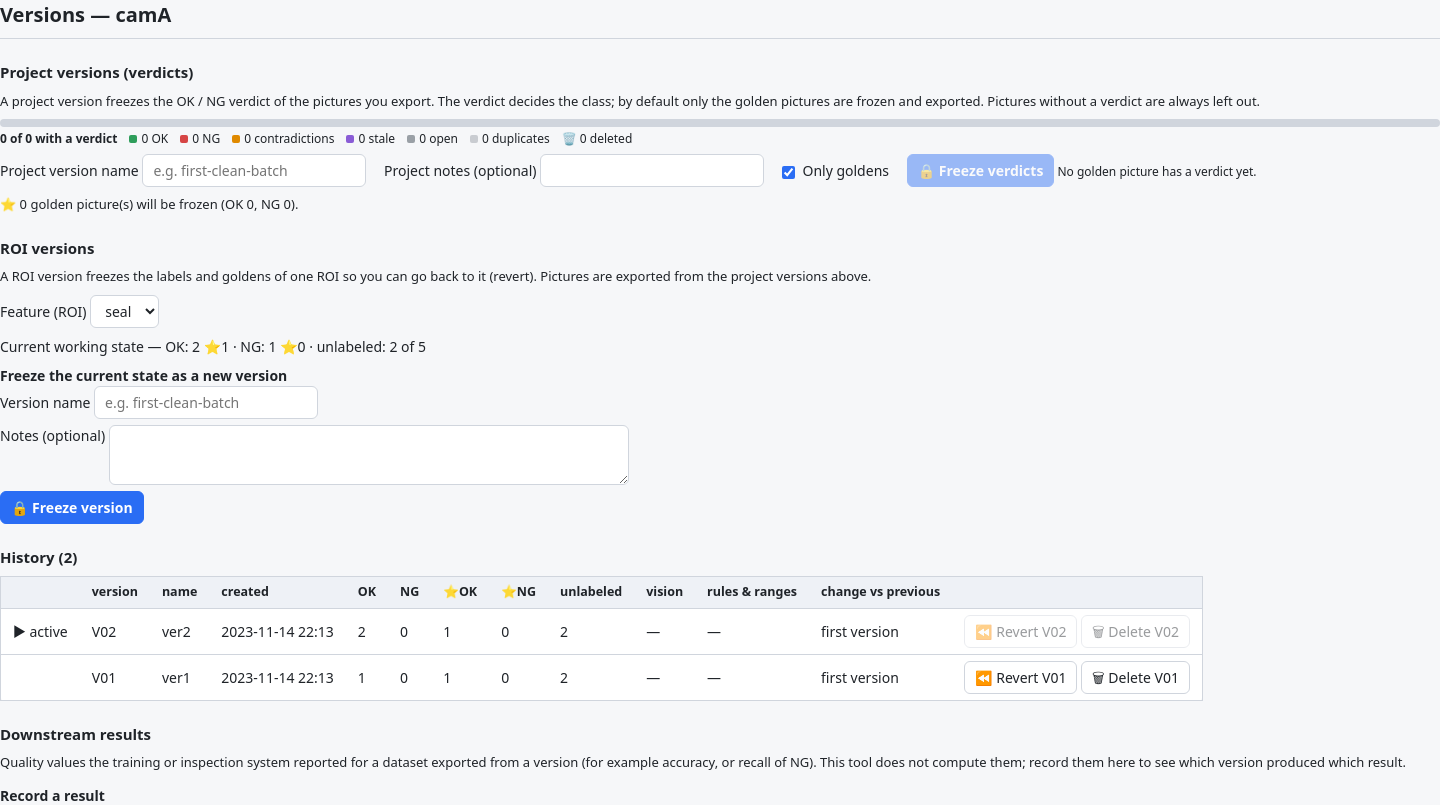
revert needs confirmation and can be cancelled
Expected: the heading "History (2)" is shown, 0,546 -> 77,566
Click the button "⏪ Revert V01": (1021, 677) 964,661 -> 1077,694
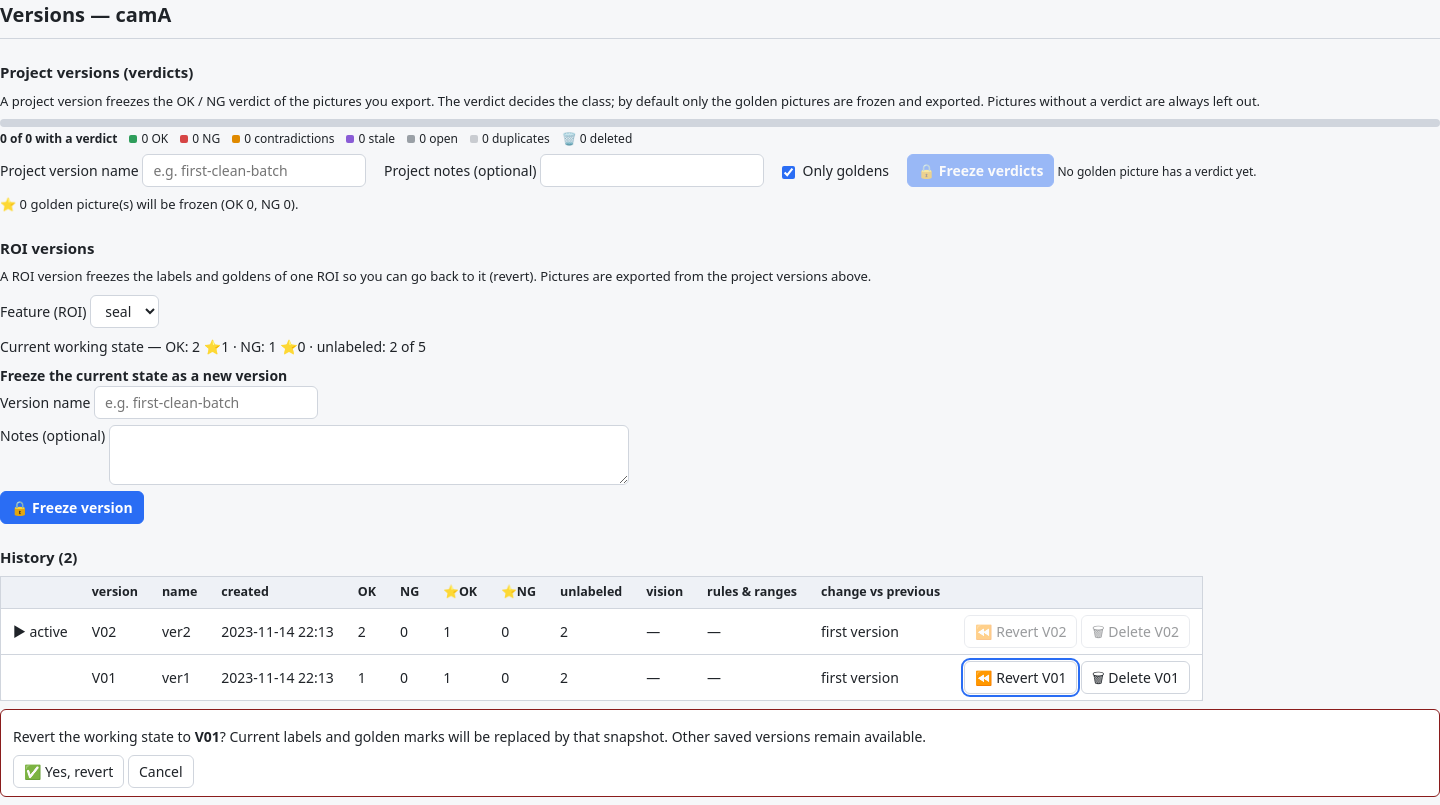
Expected: the dialog is shown, 0,709 -> 1439,797
Click the button "Cancel": (161, 771) 128,755 -> 194,788
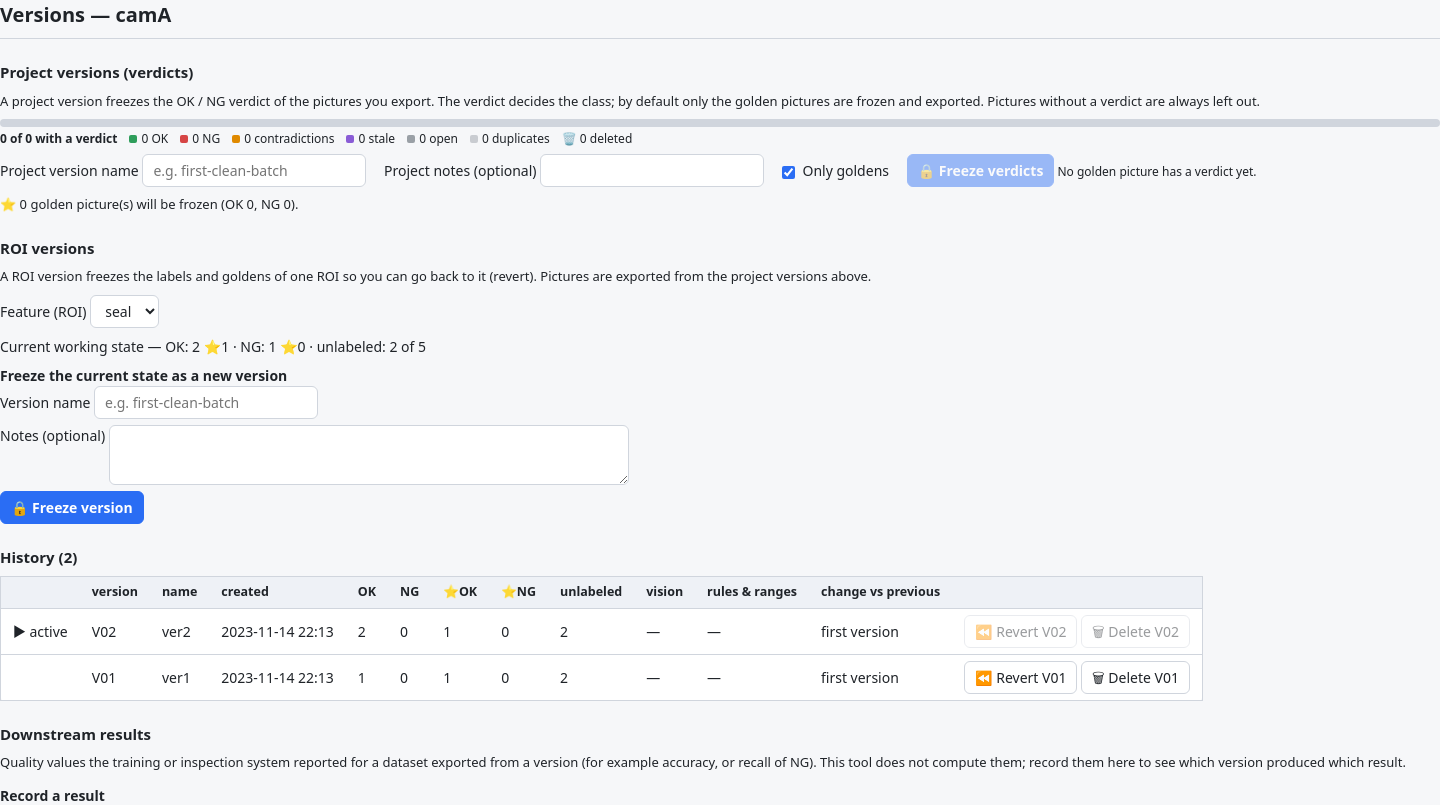
Expected: the dialog is gone
Click the button "⏪ Revert V01": (1021, 677) 964,661 -> 1077,694
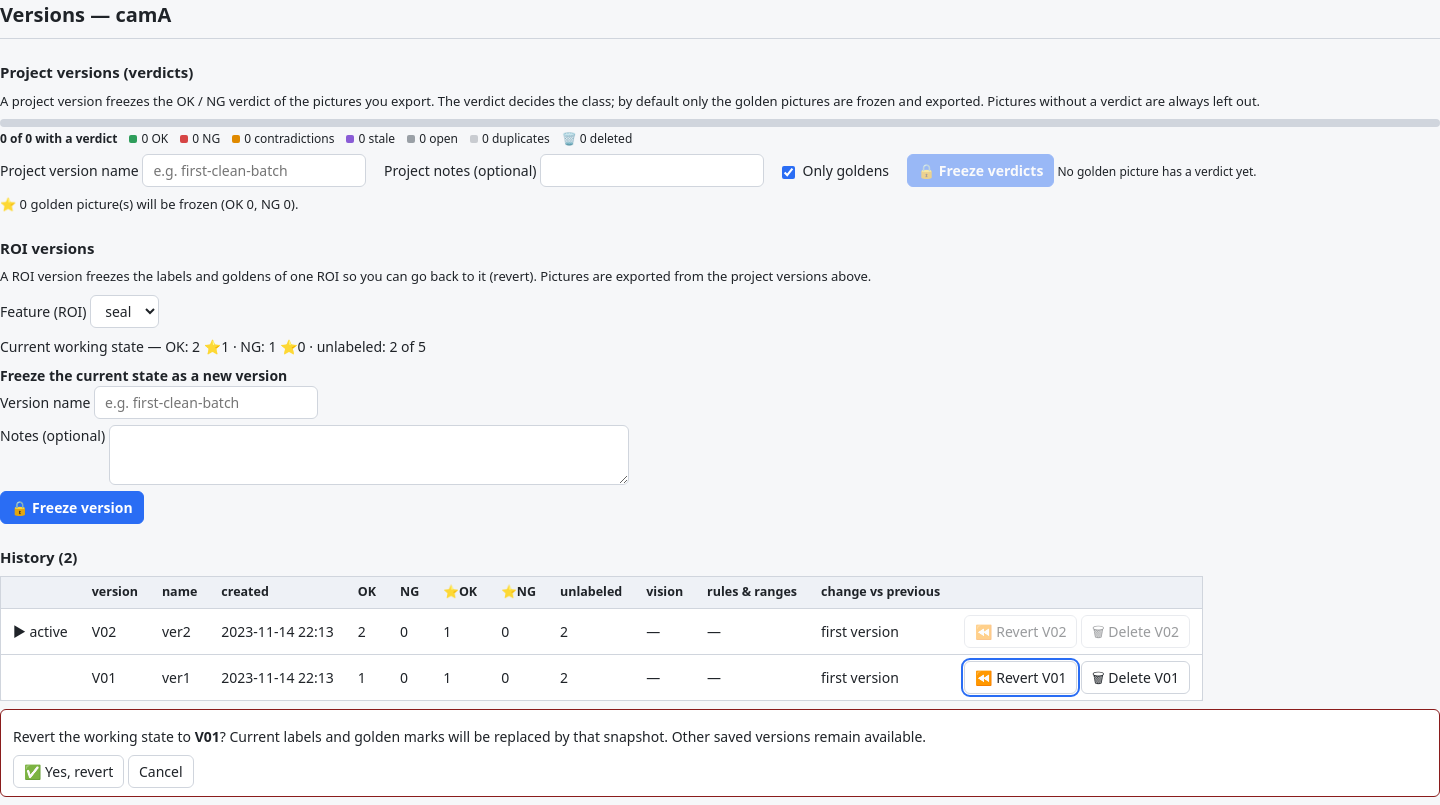
Click the button "✅ Yes, revert": (69, 771) 13,755 -> 124,788
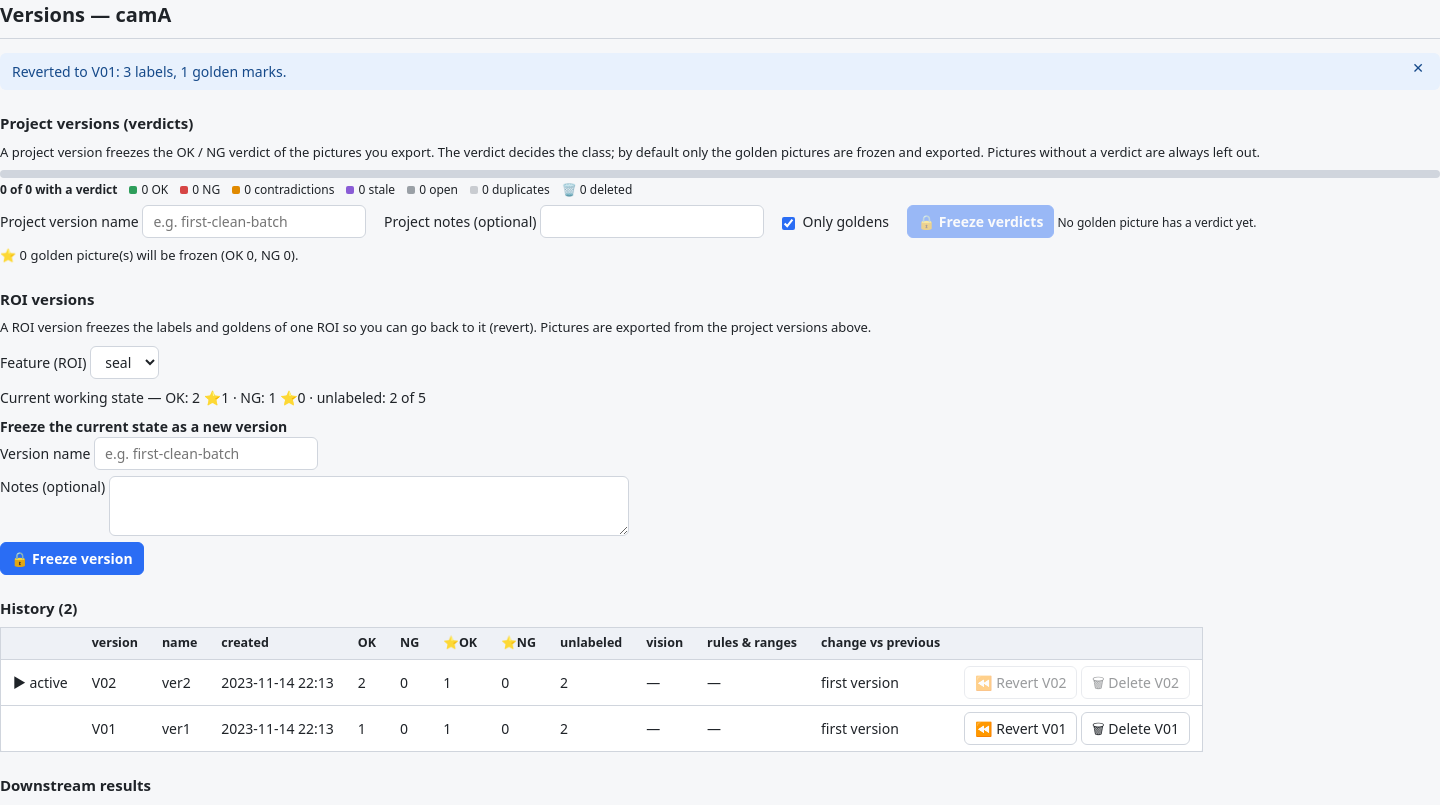
Expected: the text "Reverted to V01: 3 labels, 1 golden marks." is shown, 12,62 -> 286,81
